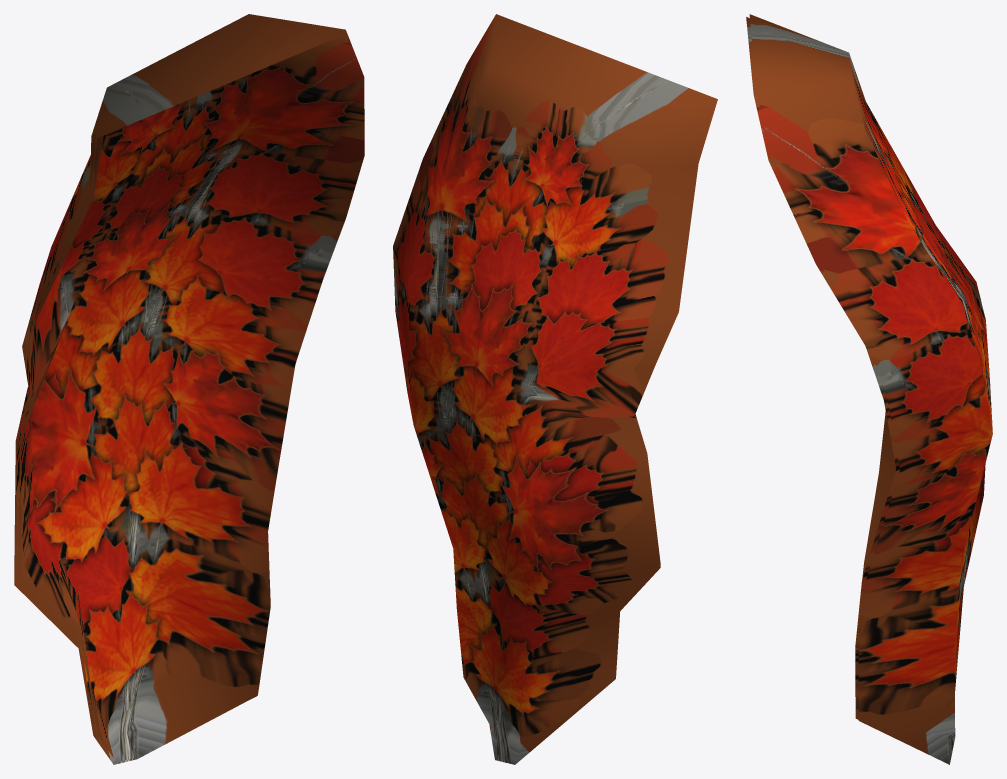
Rendered from branch_4.fbx.
3 renders of one model, left to right at view 1: azimuth 30°, elevation 25°; view 2: azimuth 150°, elevation 25°; view 3: azimuth 270°, elevation 25°, orthographic. The views are drawn at different scales.
Parts seen in each view (by area): view 1: branch_4; view 2: branch_4; view 3: branch_4.
Boxes of the visible parts, left/top/right/bottom form: branch_4: left=14, top=14, right=364, bottom=764; branch_4: left=393, top=14, right=717, bottom=764; branch_4: left=746, top=14, right=992, bottom=764.
Size of the model in its own units: 1.75 by 4.02 by 1.25.
